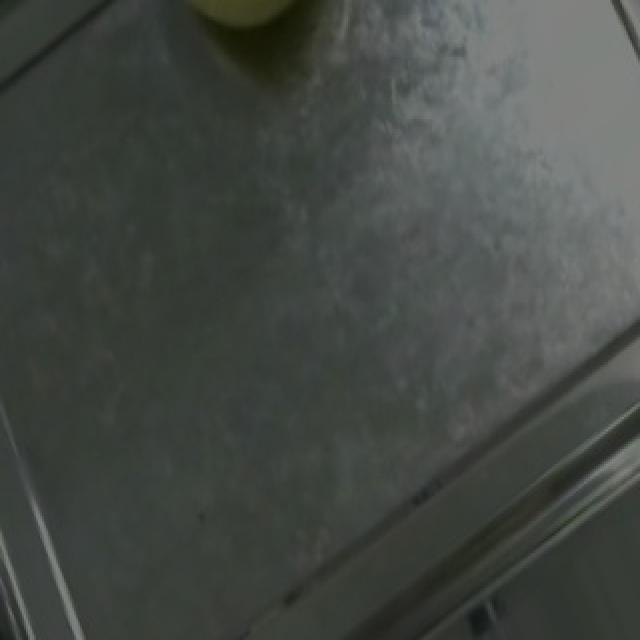Fruit: (132, 0, 354, 67)
